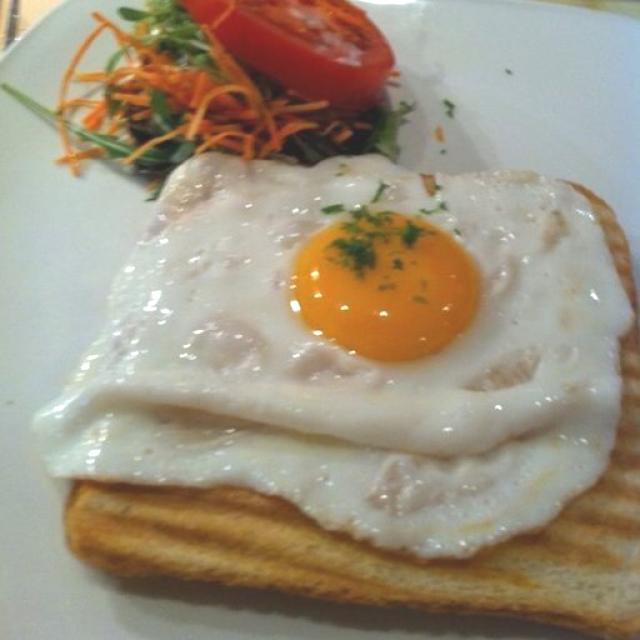telur ceplok: (31, 152, 639, 560)
